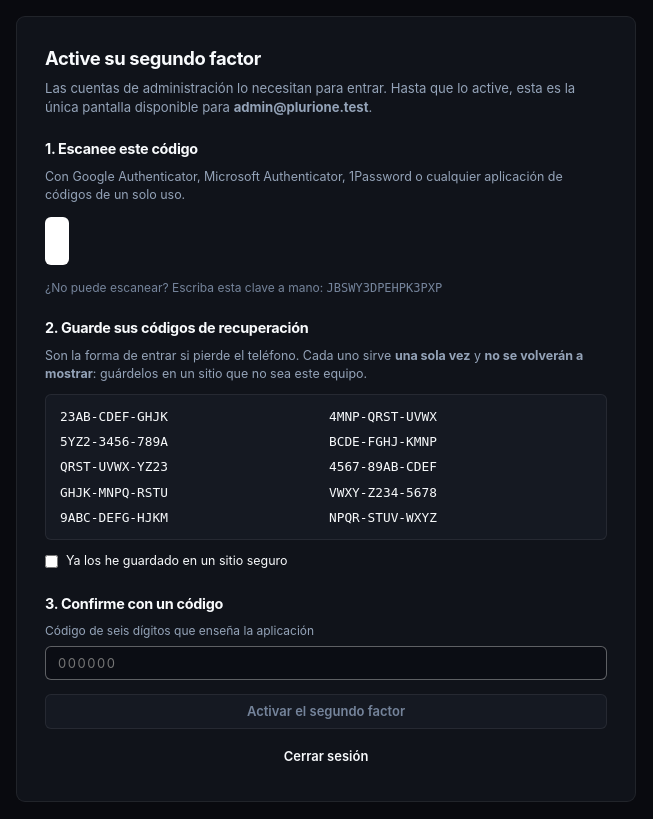
Test: el alta del segundo factor › no deja activar hasta confirmar que los códigos están guardados
Expected: the picture named "Código QR" is shown, top-left (45, 217), bottom-right (69, 265)
Expected: the button "Activar el segundo factor" is disabled, top-left (45, 694), bottom-right (607, 729)
Click the checkbox labelled "Ya los he guardado en un sitio seguro" at point(52, 561), box top-left (45, 555), bottom-right (58, 568)
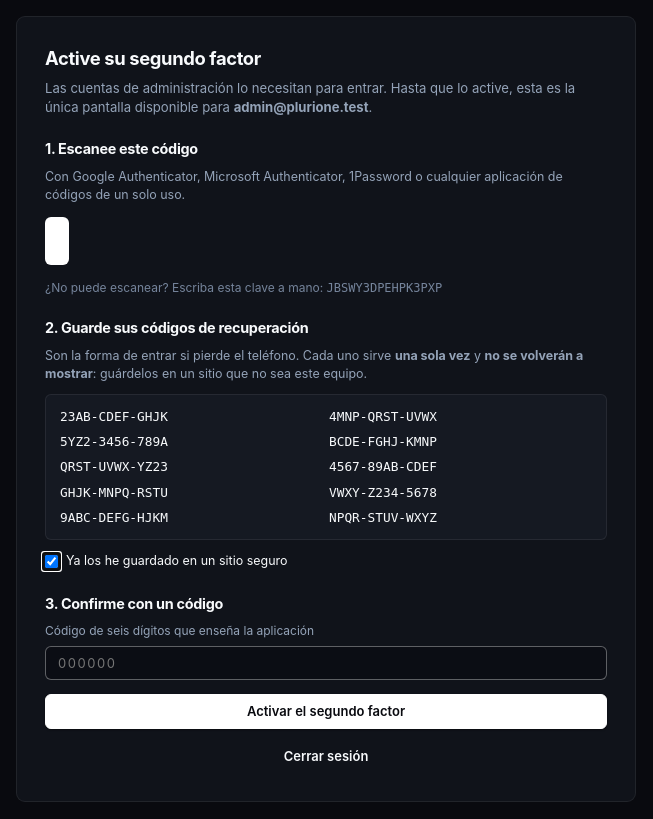
Expected: the button "Activar el segundo factor" is enabled, top-left (45, 694), bottom-right (607, 729)
